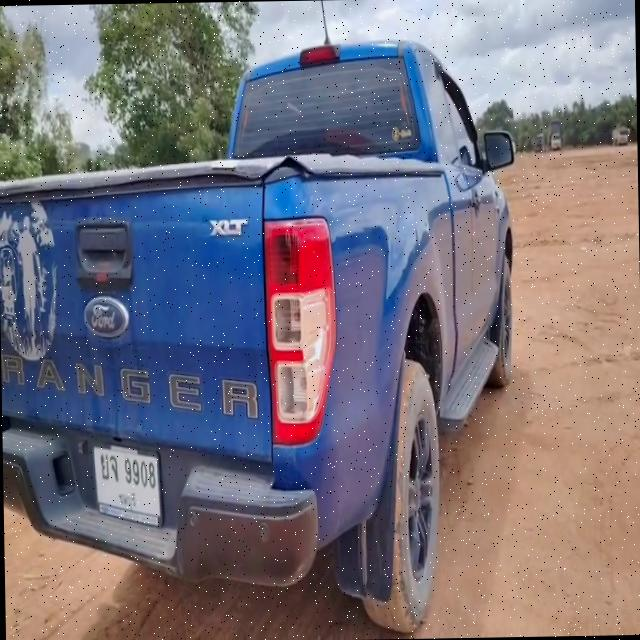Digit: (124, 454, 156, 490)
Licenseplate: (90, 440, 163, 528)
Provincename: (117, 490, 137, 510)
Thaichar: (100, 449, 118, 482)
